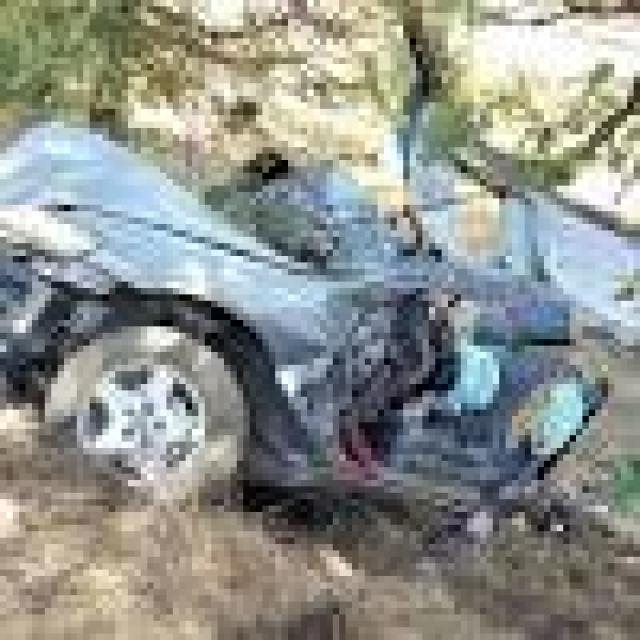severe: (0, 116, 562, 518)
